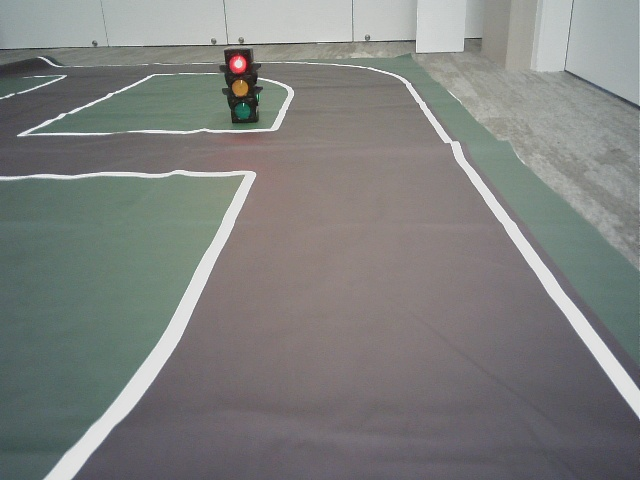red: (227, 49, 255, 120)
